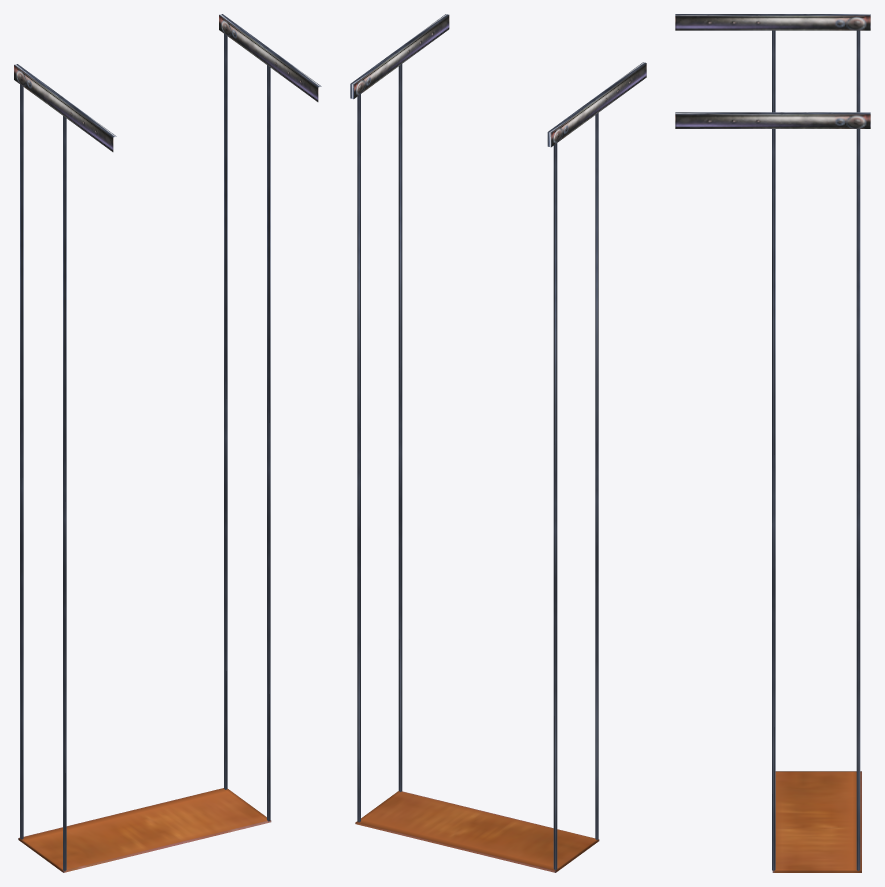
The picture shows the model from 3 angles, left to right: view 1: azimuth 30°, elevation 25°; view 2: azimuth 150°, elevation 25°; view 3: azimuth 270°, elevation 25°; orthographic projection. The views are drawn at different scales.
Visible parts, largest first — view 1: Box08; view 2: Box08; view 3: Box08.
Boxes of the visible parts, x1=… form: Box08: x1=14, y1=14, x2=321, y2=872; Box08: x1=350, y1=14, x2=646, y2=872; Box08: x1=675, y1=14, x2=870, y2=872.
Size of the model in its own units: 702 by 2477 by 577.
2 materials, 2 textured.
